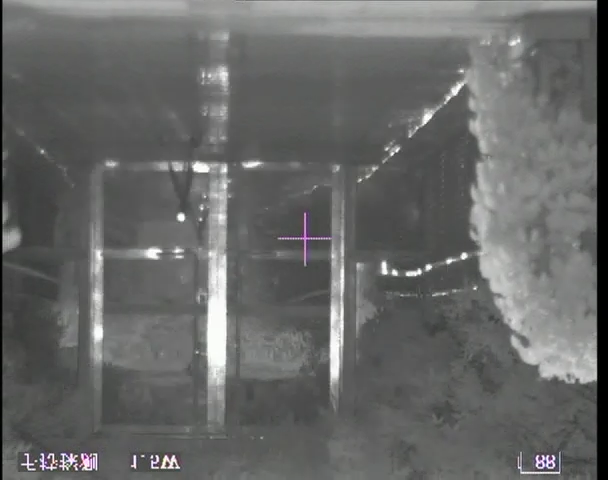my: (175, 212, 187, 223)
